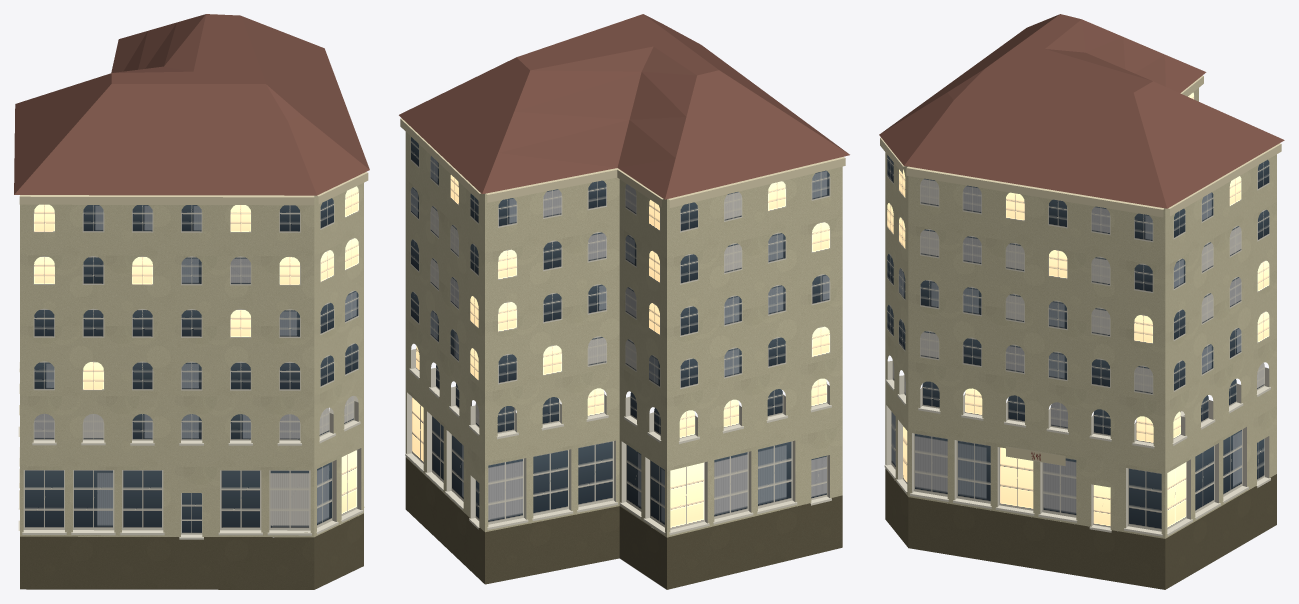
The model's file is langC_tenzmomo.glb.
3 renders of one model, left to right at view 1: azimuth 30°, elevation 25°; view 2: azimuth 150°, elevation 25°; view 3: azimuth 270°, elevation 25°, orthographic. The views are drawn at different scales.
Visible parts, largest first — view 1: langC_tenzmomo; view 2: langC_tenzmomo; view 3: langC_tenzmomo.
Boxes of the visible parts, box(x1,y1,x2,y2) form: langC_tenzmomo: box(14, 14, 369, 589); langC_tenzmomo: box(399, 14, 849, 589); langC_tenzmomo: box(879, 14, 1284, 589).
Size of the model in its own units: 22.81 by 26.57 by 21.62.
Materials: 3 (3 with a texture image).
